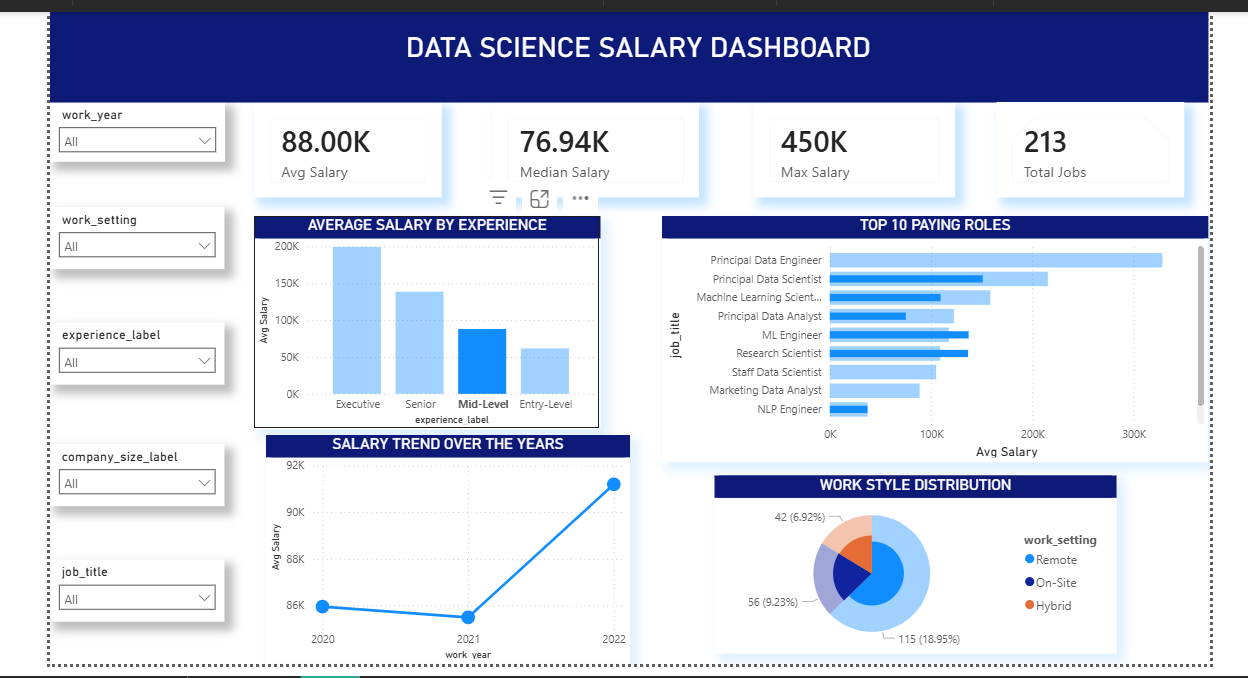

Layout of this report page (visuals, bound fields, positions):
{"tool":"powerbi","page":{"name":"Page 1","canvas":[1280,720],"ordinal":0},"visuals":[{"type":"textbox","box":[10,0,280,280],"z":0},{"type":"cardVisual","fields":{"Data":["ds_salaries_clean.Avg Salary"]},"box":[224.6,100,207,105.3],"z":1000},{"type":"cardVisual","fields":{"Data":["ds_salaries_clean.Max Salary"]},"box":[777.2,100,222.8,105.3],"z":2000},{"type":"cardVisual","fields":{"Data":["ds_salaries_clean.Median Salary"]},"box":[489.5,100,228.1,105.3],"z":3000},{"type":"slicer","fields":{"Values":["ds_salaries_clean.work_year"]},"box":[0,100,193.2,66.1],"z":4000},{"type":"slicer","fields":{"Values":["ds_salaries_clean.experience_label"]},"box":[0,342.1,193,68.4],"z":5000},{"type":"slicer","fields":{"Values":["ds_salaries_clean.work_setting"]},"box":[0,215.8,193,68.4],"z":6000},{"type":"slicer","fields":{"Values":["ds_salaries_clean.company_size_label"]},"box":[0,477.2,193,68.4],"z":7000},{"type":"textbox","title":"                 DATA SCIENCE SALARY DASHBOARD ","box":[0,0,1279.7,100],"z":8000},{"type":"slicer","fields":{"Values":["ds_salaries_clean.job_title"]},"box":[0,605.3,193,68.4],"z":9000},{"type":"clusteredColumnChart","title":"AVERAGE SALARY BY EXPERIENCE ","fields":{"Category":["ds_salaries_clean.experience_label"],"Y":["ds_salaries_clean.Avg Salary"]},"box":[224.6,224.6,382.5,235.1],"z":10000},{"type":"clusteredBarChart","title":"TOP 10 PAYING ROLES","fields":{"Category":["ds_salaries_clean.job_title"],"Y":["ds_salaries_clean.Avg Salary"]},"box":[675.4,224.6,603.5,271.9],"z":11000},{"type":"cardVisual","fields":{"Data":["ds_salaries_clean.Total Jobs"]},"box":[1045.6,100,207,105.3],"z":12000},{"type":"lineChart","title":"SALARY TREND OVER THE YEARS","fields":{"Y":["ds_salaries_clean.Avg Salary"],"Category":["ds_salaries_clean.work_year"]},"box":[238.6,466.7,401.8,252.6],"z":13000},{"type":"pieChart","title":"WORK STYLE DISTRIBUTION","fields":{"Category":["ds_salaries_clean.work_setting"],"Y":["CountNonNull(ds_salaries_clean.job_title)"]},"box":[733.3,512.3,443.9,196.5],"z":14000}]}

Visuals, with their boxes in screenshot pixels (x1, y1, x2, y2):
textbox: {"left": 52, "top": 6, "right": 312, "bottom": 267}
cardVisual - ds_salaries_clean.Avg Salary: {"left": 251, "top": 100, "right": 444, "bottom": 198}
cardVisual - ds_salaries_clean.Max Salary: {"left": 765, "top": 100, "right": 973, "bottom": 198}
cardVisual - ds_salaries_clean.Median Salary: {"left": 498, "top": 100, "right": 710, "bottom": 198}
slicer - ds_salaries_clean.work_year: {"left": 42, "top": 100, "right": 222, "bottom": 161}
slicer - ds_salaries_clean.experience_label: {"left": 42, "top": 325, "right": 222, "bottom": 388}
slicer - ds_salaries_clean.work_setting: {"left": 42, "top": 207, "right": 222, "bottom": 271}
slicer - ds_salaries_clean.company_size_label: {"left": 42, "top": 450, "right": 222, "bottom": 514}
"                 DATA SCIENCE SALARY DASHBOARD " textbox: {"left": 42, "top": 6, "right": 1233, "bottom": 100}
slicer - ds_salaries_clean.job_title: {"left": 42, "top": 570, "right": 222, "bottom": 633}
"AVERAGE SALARY BY EXPERIENCE " clusteredColumnChart: {"left": 251, "top": 215, "right": 607, "bottom": 434}
"TOP 10 PAYING ROLES" clusteredBarChart: {"left": 671, "top": 215, "right": 1232, "bottom": 468}
cardVisual - ds_salaries_clean.Total Jobs: {"left": 1015, "top": 100, "right": 1208, "bottom": 198}
"SALARY TREND OVER THE YEARS" lineChart: {"left": 264, "top": 441, "right": 638, "bottom": 676}
"WORK STYLE DISTRIBUTION" pieChart: {"left": 724, "top": 483, "right": 1137, "bottom": 666}
